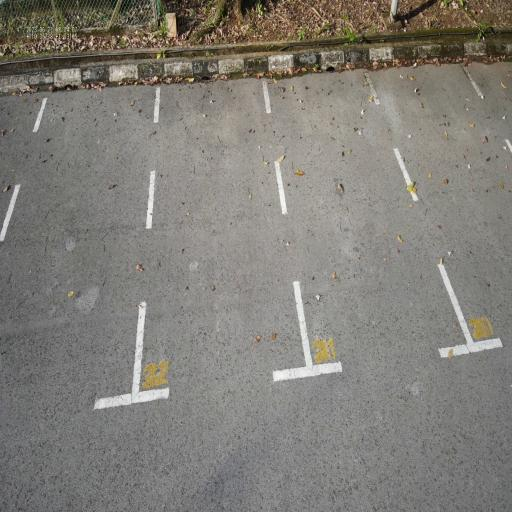Empty: (258, 63, 479, 391), (126, 63, 320, 409)
